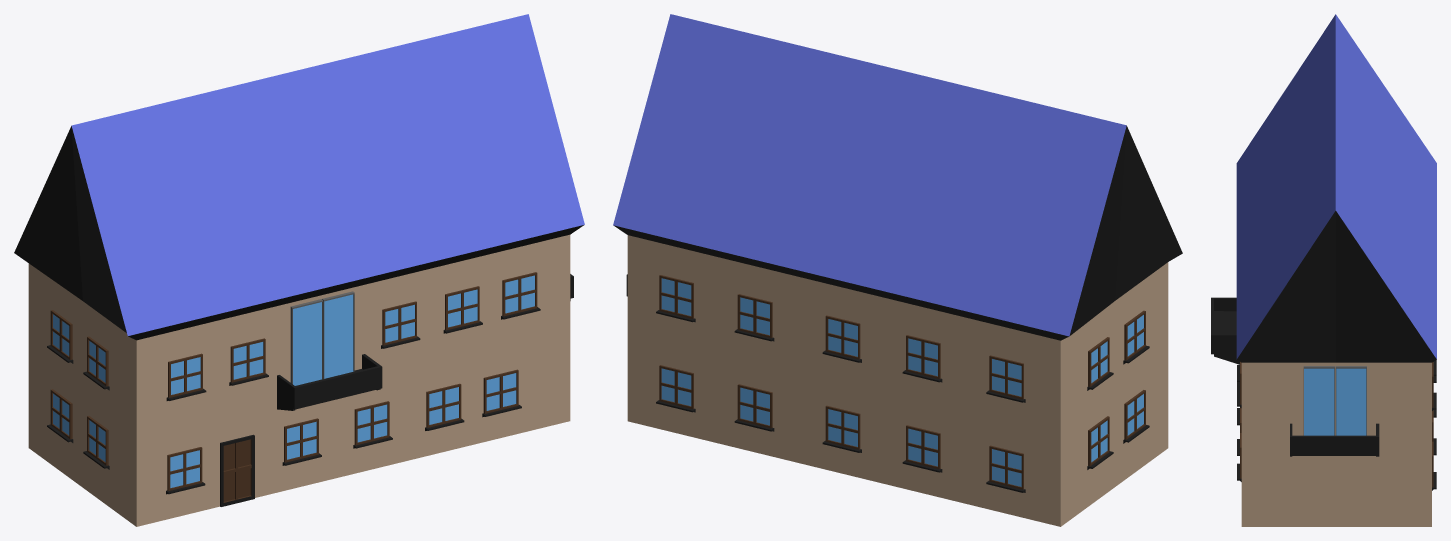
File: cityasset_house_3.fbx
3 views of the same model, side by side, from view 1: azimuth 30°, elevation 25°; view 2: azimuth 150°, elevation 25°; view 3: azimuth 270°, elevation 25° (orthographic). The views are drawn at different scales.
Parts seen in each view (by area): view 1: Cube.004, Cube.001, Cube.011, Cube.012, Cube.002, Cube.017, Cube.019, Cube.013, Cube.016, Cube.003, Cube.018, Cube.015 (+7 smaller); view 2: Cube.004, Cube.028, Cube.033, Cube.029, Cube.034, Cube.030, Cube.035, Cube.036, Cube.031, Cube.032, Cube.037, Cube.025 (+3 smaller); view 3: Cube.004, Cube.022, Cube.023, Cube.021, Cube.001.
Boxes of the visible parts, x1,y1,x2,y2 form: Cube.004: (14, 14, 584, 526); Cube.001: (277, 354, 382, 410); Cube.011: (290, 299, 323, 385); Cube.012: (322, 291, 354, 379); Cube.002: (220, 434, 254, 506); Cube.017: (353, 401, 392, 448); Cube.019: (482, 369, 521, 417); Cube.013: (229, 338, 268, 385); Cube.016: (501, 272, 540, 319); Cube.003: (166, 447, 205, 494); Cube.018: (425, 383, 464, 430); Cube.015: (443, 286, 482, 333); Cube.004: (613, 14, 1182, 526); Cube.028: (734, 384, 774, 431); Cube.033: (734, 294, 774, 341); Cube.029: (822, 405, 861, 452); Cube.034: (822, 315, 861, 362); Cube.030: (902, 425, 942, 472); Cube.035: (902, 335, 942, 382); Cube.036: (656, 275, 695, 322); Cube.031: (656, 365, 695, 412); Cube.032: (986, 445, 1025, 492); Cube.037: (986, 355, 1025, 402); Cube.025: (1123, 310, 1149, 364); Cube.004: (1236, 14, 1436, 526); Cube.022: (1303, 366, 1334, 435); Cube.023: (1335, 366, 1366, 435); Cube.021: (1290, 423, 1379, 456); Cube.001: (1211, 297, 1239, 364).
Bounding box in the file's own units: 509 × 373 × 238.
